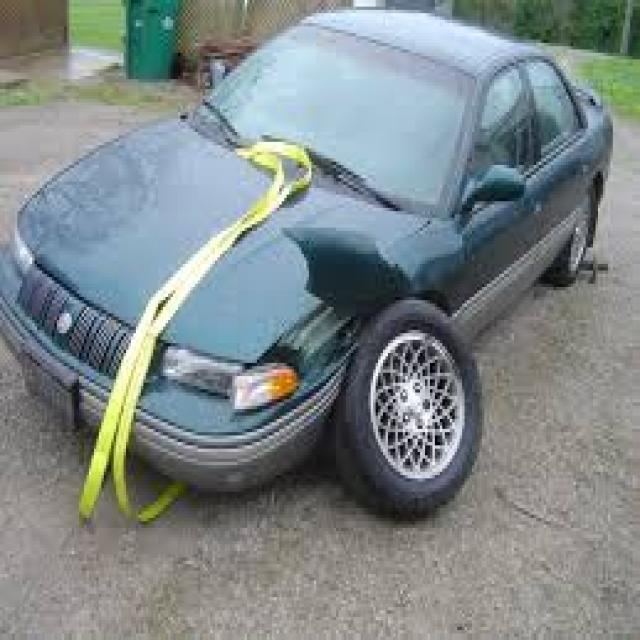severe: (112, 217, 451, 490)
